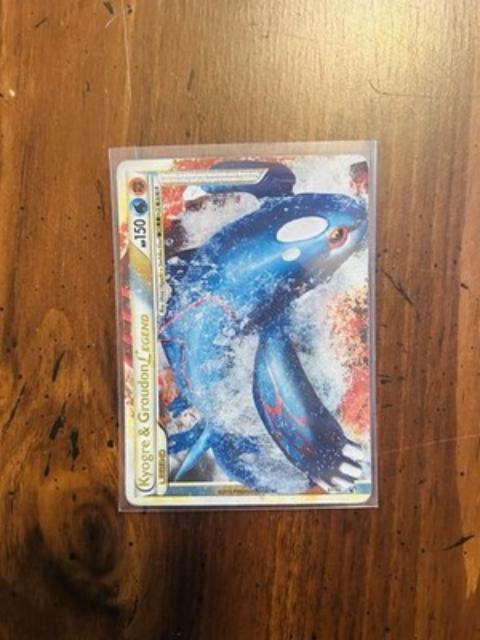Card: (112, 151, 376, 510)
Name: (132, 305, 157, 490)
